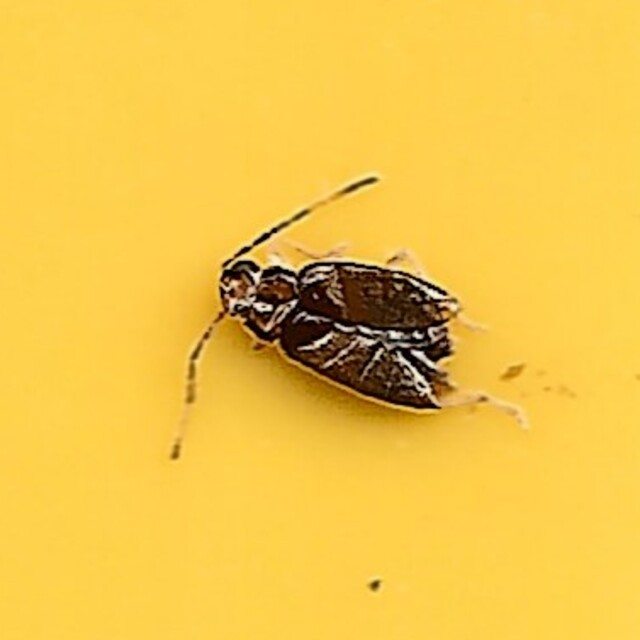Coleoptera: (170, 174, 470, 466)
